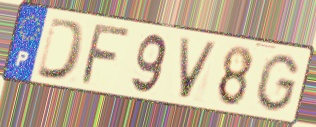8: (216, 45, 254, 109)
9: (129, 32, 168, 95)
D: (34, 15, 88, 83)
F: (77, 22, 135, 87)
G: (252, 52, 302, 114)
V: (177, 35, 221, 101)
